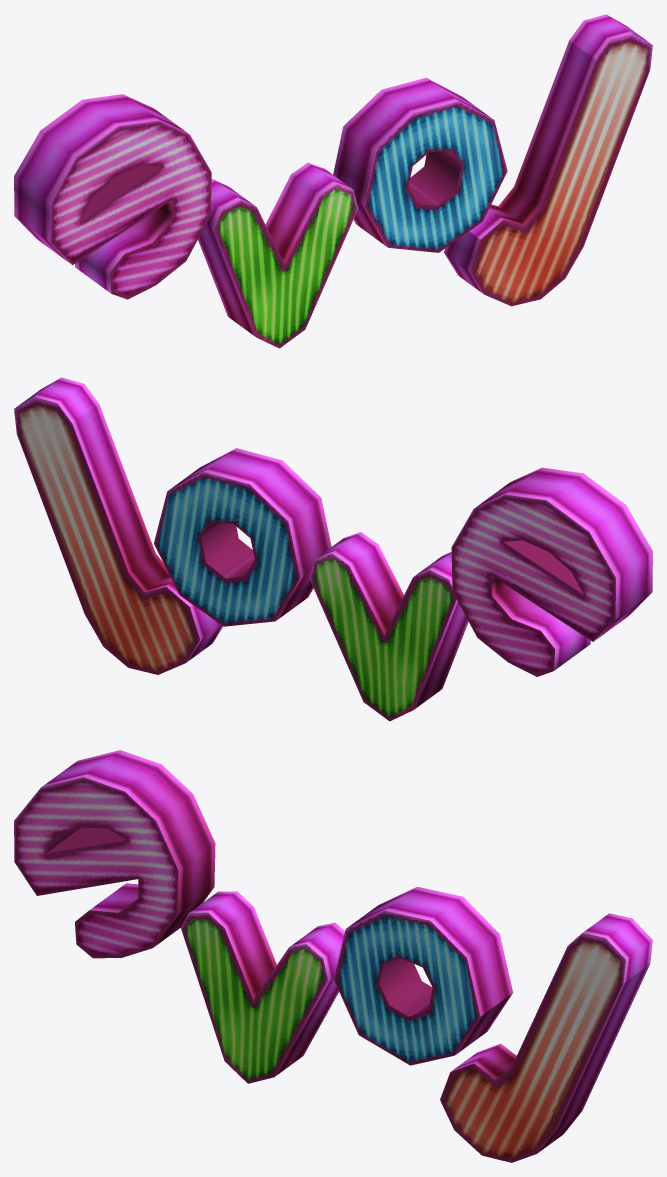
File: furni_0200201.FBX
The picture shows the model from 3 angles, top to bottom: view 1: azimuth 30°, elevation 25°; view 2: azimuth 150°, elevation 25°; view 3: azimuth 330°, elevation 25°; orthographic projection.
Visible parts, largest first — view 1: furni_0200201; view 2: furni_0200201; view 3: furni_0200201.
Part boxes in pixels (<box>): furni_0200201: <box>14,14,652,348</box>; furni_0200201: <box>14,377,652,721</box>; furni_0200201: <box>14,750,652,1162</box>.
Bounding box in the file's own units: 160 × 69.76 × 17.12.
Materials: 1 (1 with a texture image).
